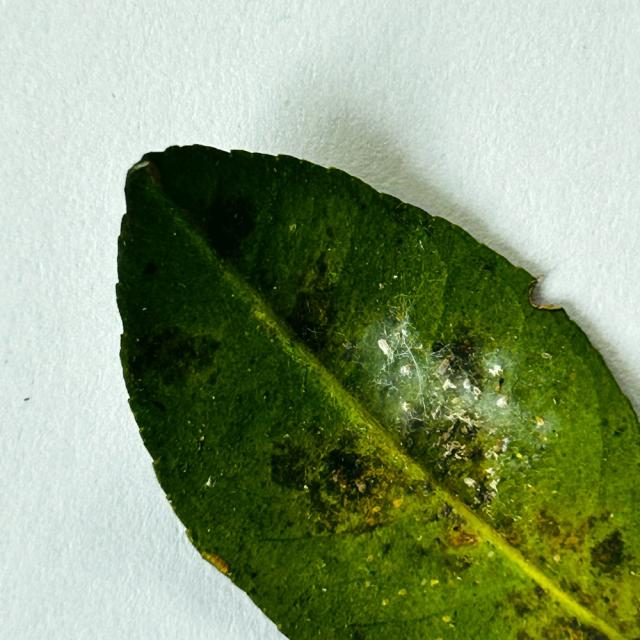Bacterial_Blight: (175, 172, 364, 345), (267, 428, 399, 530), (132, 326, 221, 386), (289, 226, 353, 303), (197, 193, 263, 265), (425, 338, 491, 400), (429, 408, 489, 467), (281, 292, 338, 348), (268, 439, 327, 493), (527, 605, 617, 640), (314, 446, 370, 499), (269, 450, 319, 496), (589, 528, 629, 572), (507, 587, 553, 624), (439, 505, 479, 544), (534, 511, 571, 551), (509, 376, 544, 408), (568, 621, 614, 640), (403, 414, 426, 437), (512, 596, 536, 617), (476, 485, 497, 507), (261, 319, 279, 340), (500, 529, 521, 547), (439, 503, 457, 521), (141, 260, 159, 277), (316, 259, 329, 280), (430, 341, 448, 355), (152, 399, 167, 413), (568, 618, 582, 631), (380, 541, 392, 555), (479, 261, 494, 272), (534, 585, 546, 598), (261, 389, 272, 402), (613, 426, 626, 437), (325, 226, 335, 239), (196, 438, 205, 452), (351, 633, 366, 640), (249, 570, 258, 579), (396, 236, 404, 245), (498, 377, 505, 387), (452, 524, 460, 532)
Lemon: (115, 145, 639, 639)
